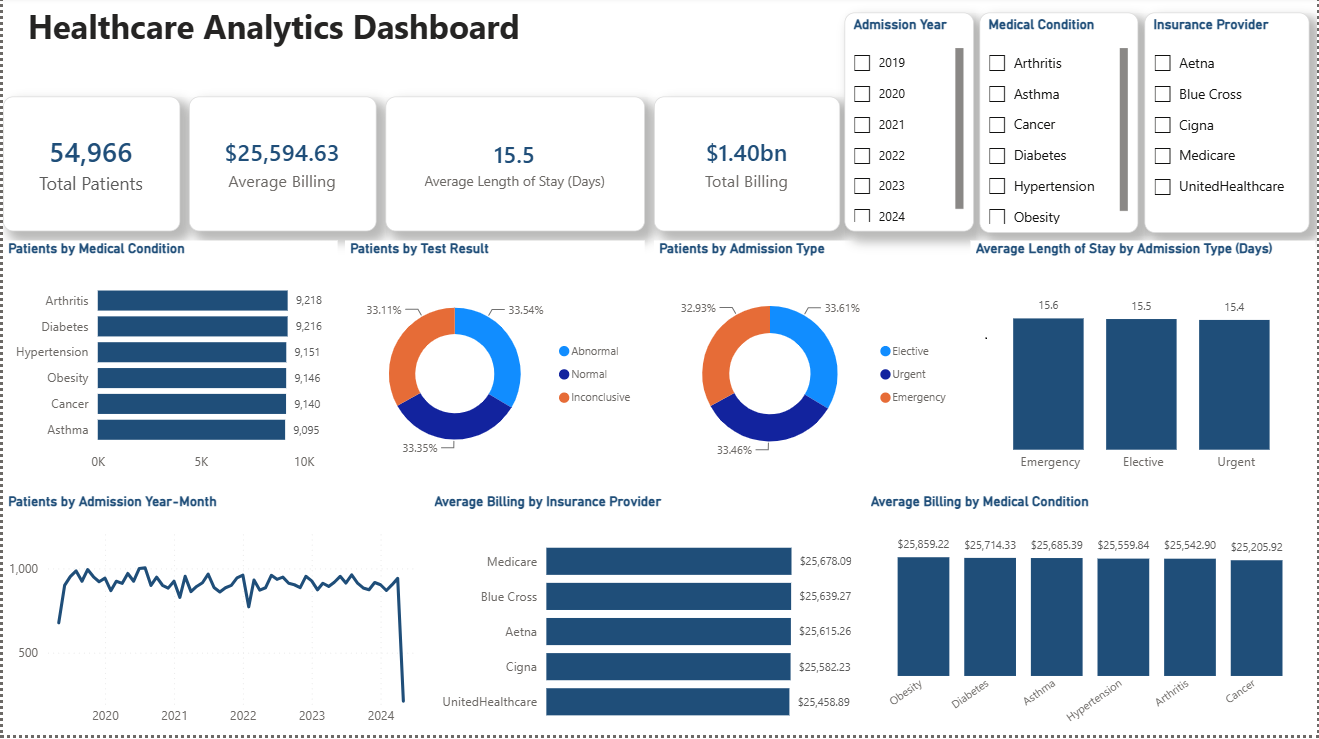

Layout of this report page (visuals, bound fields, positions):
{"tool":"powerbi","page":{"name":"Healthcare_ Analytics_Dashboard","canvas":[1280,720],"ordinal":0},"visuals":[{"type":"cardVisual","fields":{"Data":["healthcare_cleaned.Total Patients"]},"box":[0,97.9,172.5,131.5],"z":0},{"type":"cardVisual","fields":{"Data":["healthcare_cleaned.Average Billing"]},"box":[181.2,97.9,182.7,131.5],"z":1000},{"type":"cardVisual","fields":{"Data":["healthcare_cleaned.Average Length of Stay"]},"box":[372.7,97.9,252.8,131.5],"z":2000},{"type":"cardVisual","fields":{"Data":["healthcare_cleaned.Total Billing"]},"box":[634.3,97.9,181.2,131.5],"z":3000},{"type":"clusteredBarChart","title":"Patients by Medical Condition","fields":{"Category":["healthcare_cleaned.Medical Condition"],"Y":["healthcare_cleaned.Total Patients"]},"box":[0,238.2,325.9,233.8],"z":4000},{"type":"donutChart","title":"Patients by Admission Type","fields":{"Category":["healthcare_cleaned.Admission Type"],"Y":["healthcare_cleaned.Total Patients"]},"box":[634.3,238.2,298.1,233.8],"z":5000},{"type":"clusteredColumnChart","fields":{"Y":["healthcare_cleaned.Average Billing"],"Category":["healthcare_cleaned.Medical Condition"]},"box":[840.3,484.7,438.4,235.3],"z":6000},{"type":"lineChart","title":"Patients by Admission Year-Month","fields":{"Y":["healthcare_cleaned.Total Patients"],"Category":["healthcare_cleaned.Admission Year-Month"]},"box":[0,485.2,407.7,233.8],"z":7000},{"type":"listSlicer","fields":{"Values":["healthcare_cleaned.Admission Year"]},"box":[819.9,16.1,125.7,213.4],"z":8000},{"type":"listSlicer","fields":{"Values":["healthcare_cleaned.Medical Condition"]},"box":[951.4,16.1,154.9,214.8],"z":9000},{"type":"listSlicer","fields":{"Values":["healthcare_cleaned.Insurance Provider"]},"box":[1112.2,16.1,160.8,214.8],"z":10000},{"type":"donutChart","title":"Patients by Test Result","fields":{"Category":["healthcare_cleaned.Test Results"],"Y":["healthcare_cleaned.Total Patients"]},"box":[333.2,238.2,292.3,233.8],"z":11000},{"type":"clusteredBarChart","fields":{"Category":["healthcare_cleaned.Insurance Provider"],"Y":["healthcare_cleaned.Average Billing"]},"box":[415.1,485.2,416.5,235.3],"z":12000},{"type":"clusteredColumnChart","title":"Average Length of Stay by Admission Type (Days)","fields":{"Y":["healthcare_cleaned.Average Length of Stay"],"Category":["healthcare_cleaned.Admission Type"]},"box":[942.6,238.2,336.1,233.8],"z":13000},{"type":"textbox","box":[19.7,1.5,499.7,53],"z":14000}]}

Visuals, with their boxes in screenshot pixels (x1, y1, x2, y2), scaled from the page's 1280x720 canvas onto the 1319x739 screenshot:
cardVisual - healthcare_cleaned.Total Patients: (0,100,178,235)
cardVisual - healthcare_cleaned.Average Billing: (187,100,375,235)
cardVisual - healthcare_cleaned.Average Length of Stay: (384,100,645,235)
cardVisual - healthcare_cleaned.Total Billing: (654,100,840,235)
"Patients by Medical Condition" clusteredBarChart: (0,244,336,484)
"Patients by Admission Type" donutChart: (654,244,961,484)
clusteredColumnChart - healthcare_cleaned.Average Billing x healthcare_cleaned.Medical Condition: (866,497,1318,738)
"Patients by Admission Year-Month" lineChart: (0,498,420,738)
listSlicer - healthcare_cleaned.Admission Year: (845,17,974,236)
listSlicer - healthcare_cleaned.Medical Condition: (980,17,1140,237)
listSlicer - healthcare_cleaned.Insurance Provider: (1146,17,1312,237)
"Patients by Test Result" donutChart: (343,244,645,484)
clusteredBarChart - healthcare_cleaned.Insurance Provider x healthcare_cleaned.Average Billing: (428,498,857,738)
"Average Length of Stay by Admission Type (Days)" clusteredColumnChart: (971,244,1318,484)
textbox: (20,2,535,56)
